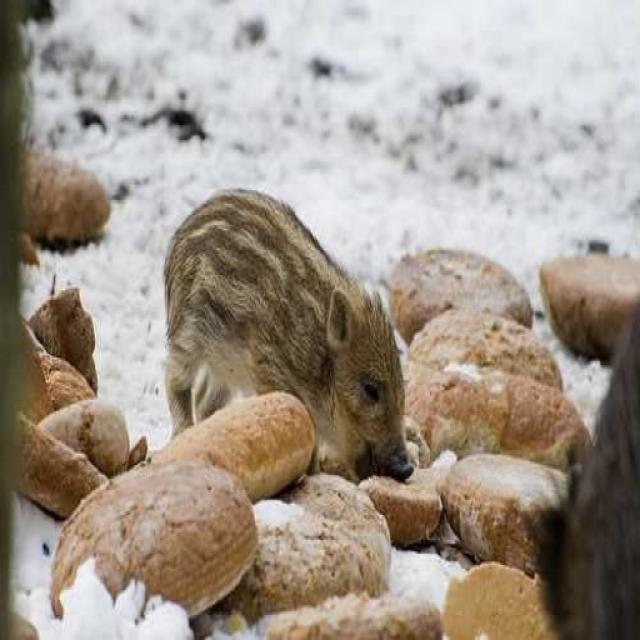pig: (143, 160, 407, 467)
